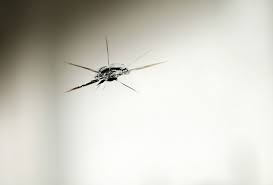bullseye: (55, 29, 176, 110)
